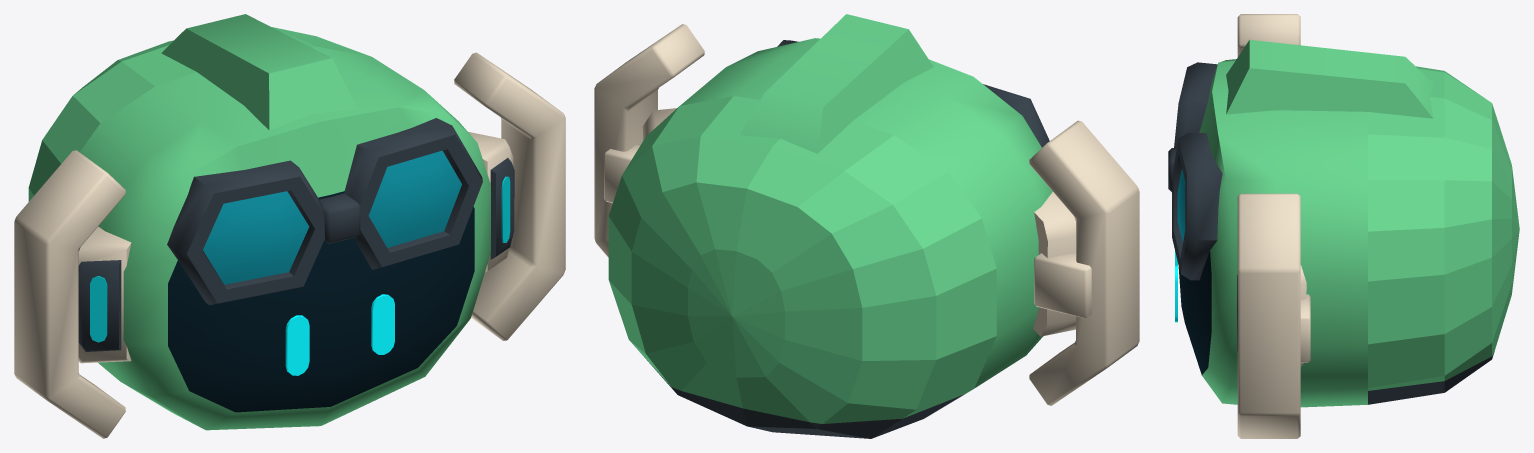
File: copilot_tester_v01.glb
The picture shows the model from 3 angles, left to right: view 1: azimuth 30°, elevation 25°; view 2: azimuth 150°, elevation 25°; view 3: azimuth 270°, elevation 25°; orthographic projection. The views are drawn at different scales.
Parts seen in each view (by area): view 1: tester_model; view 2: tester_model; view 3: tester_model.
Part boxes in pixels (x1,y1,x2,y2): tester_model: (14, 14, 565, 438); tester_model: (594, 14, 1139, 438); tester_model: (1168, 14, 1519, 438).
Size of the model in its own units: 2.8 by 1.79 by 1.78.
2 materials, 2 textured.
